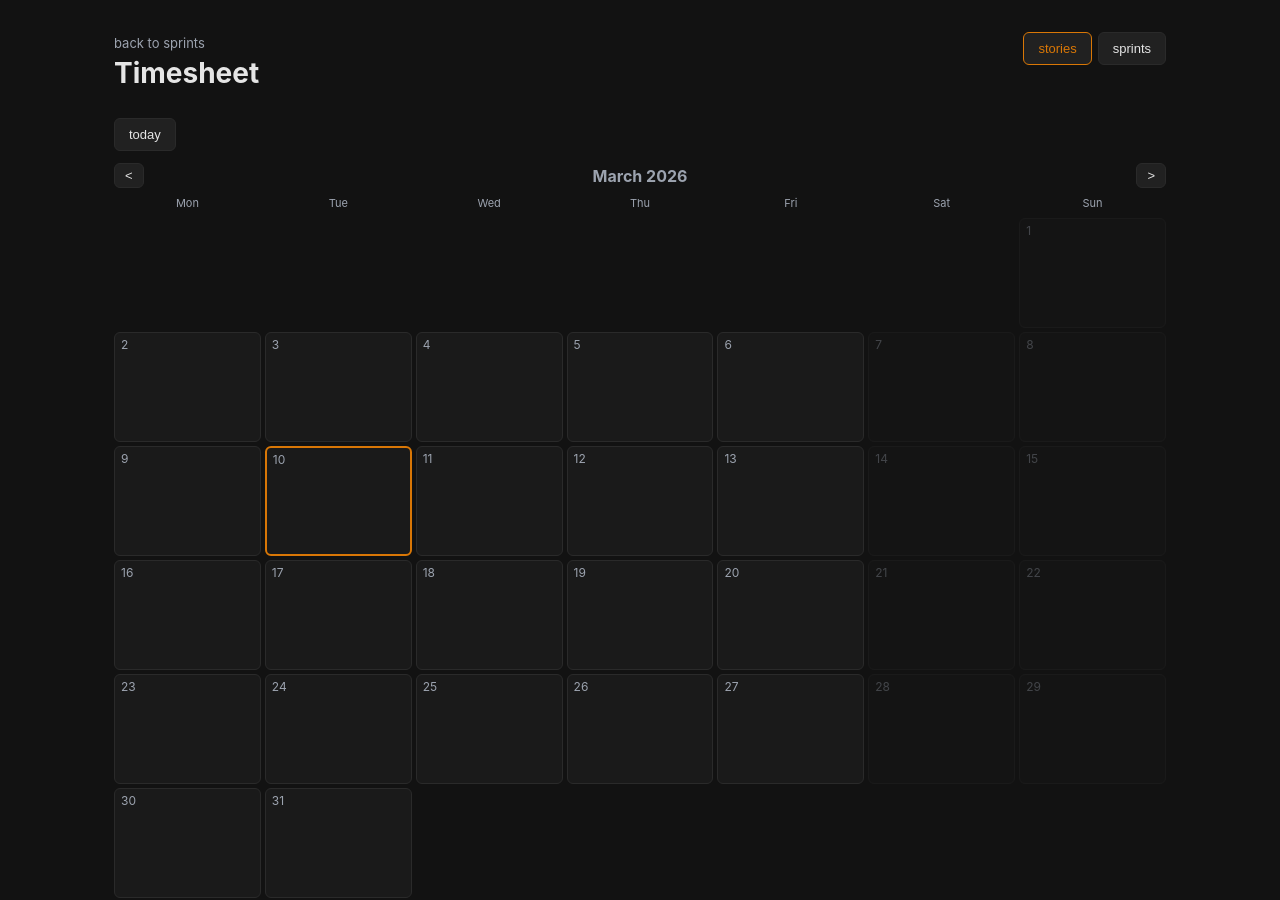
Test: timesheet page › sprints mode › navigates months and refetches holidays for the newly visible month
Click the button "sprints" at (1132, 48), box [1098,32,1166,65]
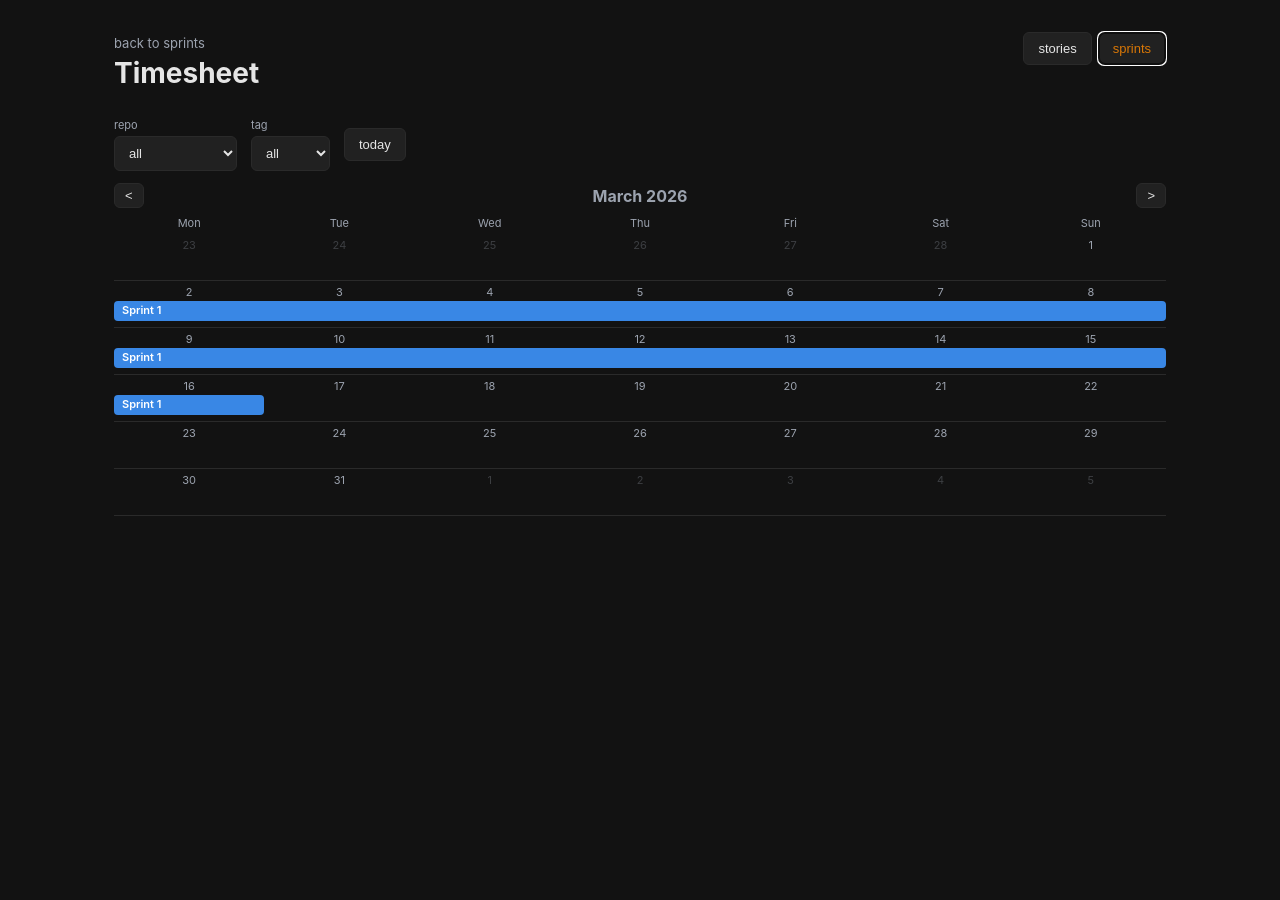
Click the button named "next month" at (1151, 196), box [1136,183,1166,208]
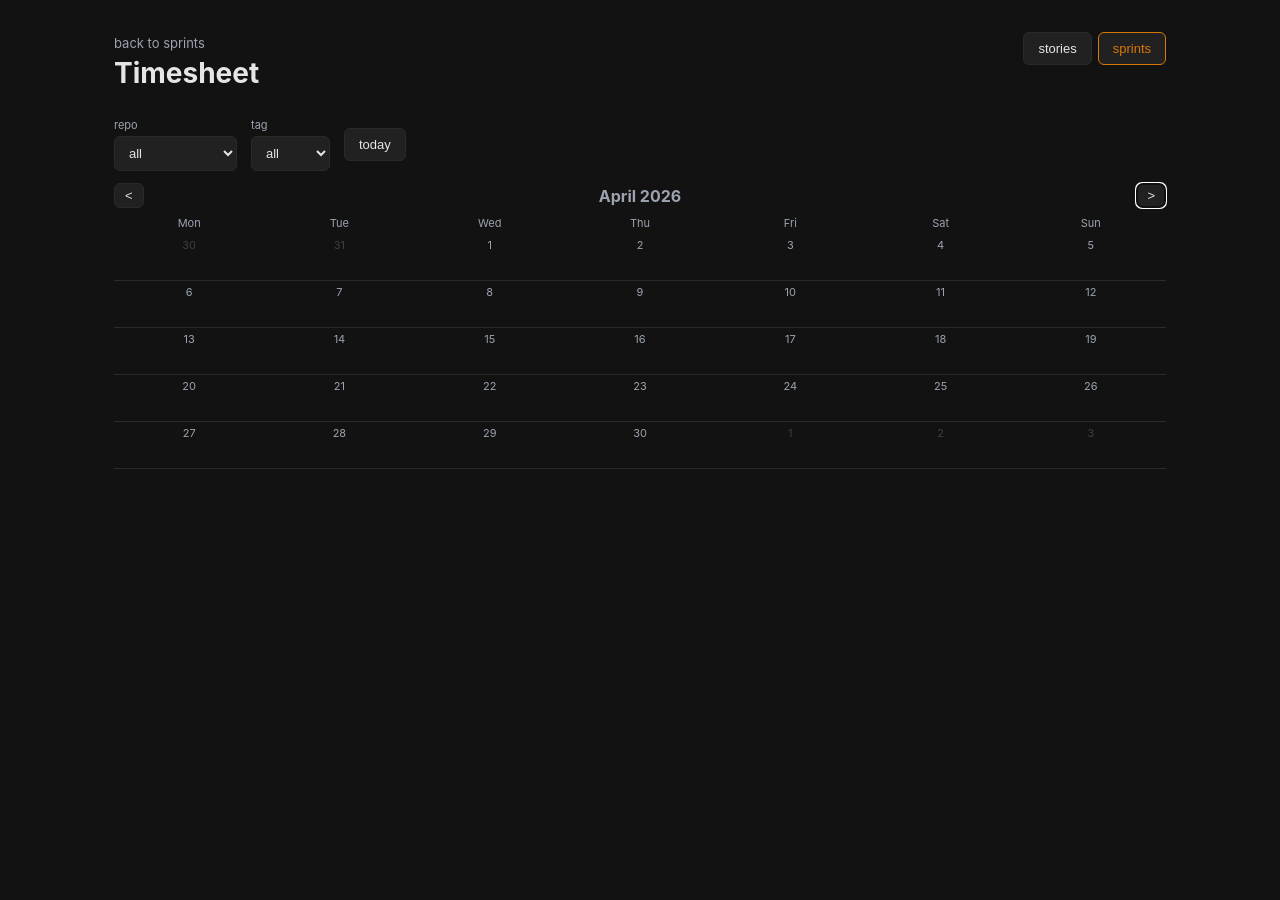
Now the heading "April 2026" is shown, box [599,186,681,206]
Now the link "Sprint 1" is gone
